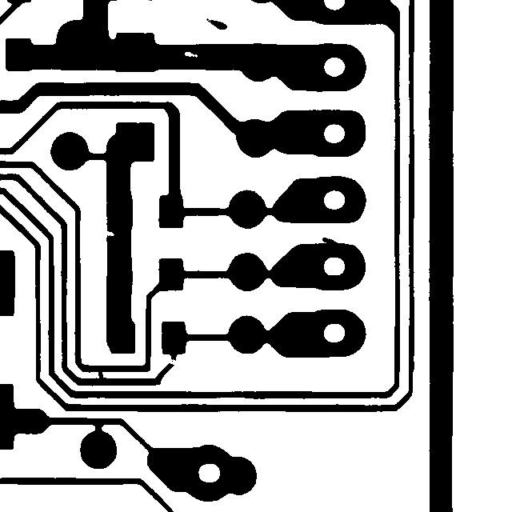copper: (198, 10, 234, 37)
mousebite: (97, 223, 122, 243)
open: (159, 350, 185, 372)
pin-hole: (177, 44, 205, 65)
short: (90, 360, 110, 386)
spur: (314, 230, 350, 253)
